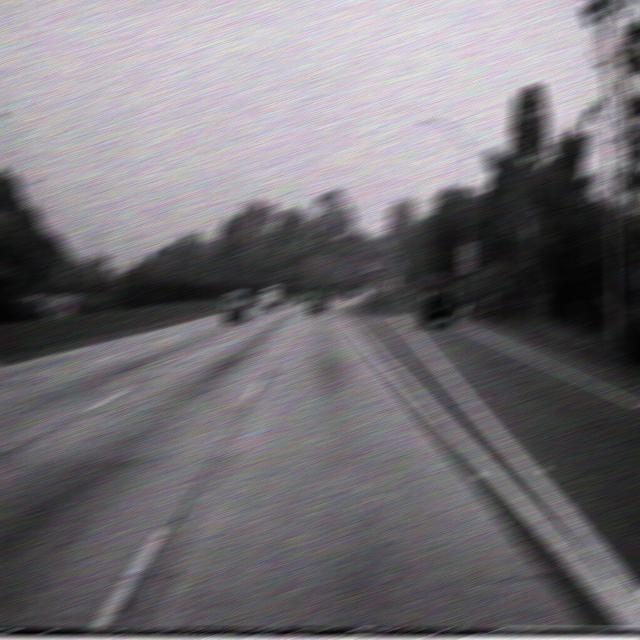speedLimit45: (458, 242, 475, 273)
